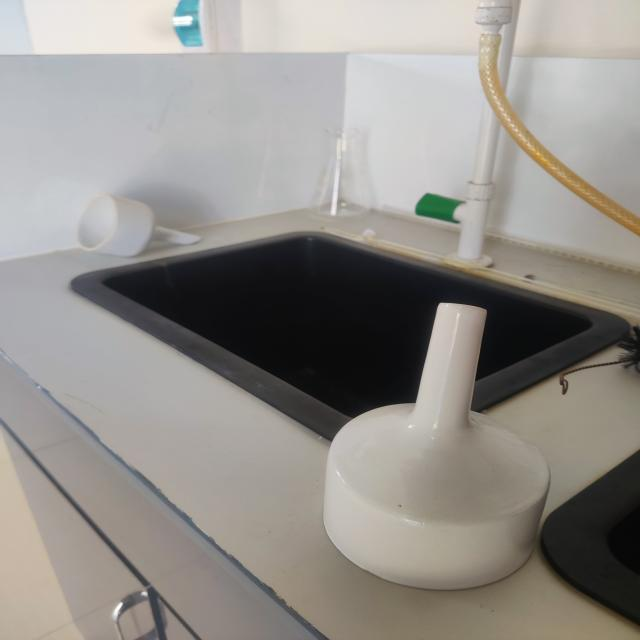Buchner_Funnel: (291, 287, 589, 605), (47, 168, 224, 272)
